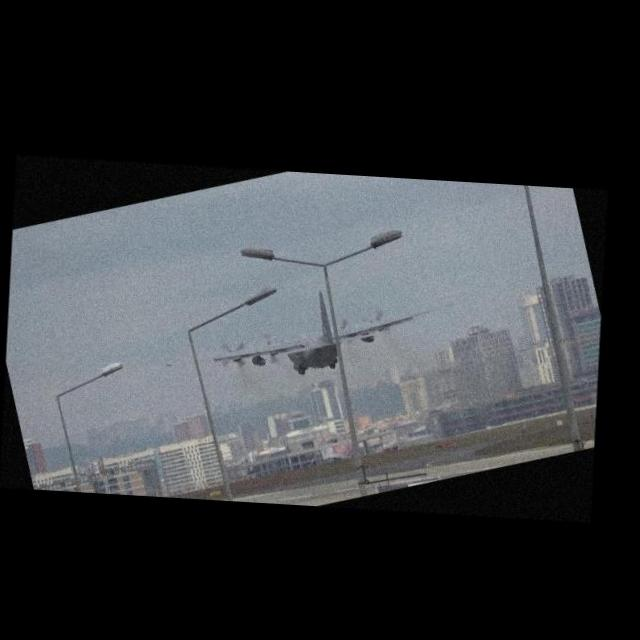airplane: (208, 277, 422, 388)
